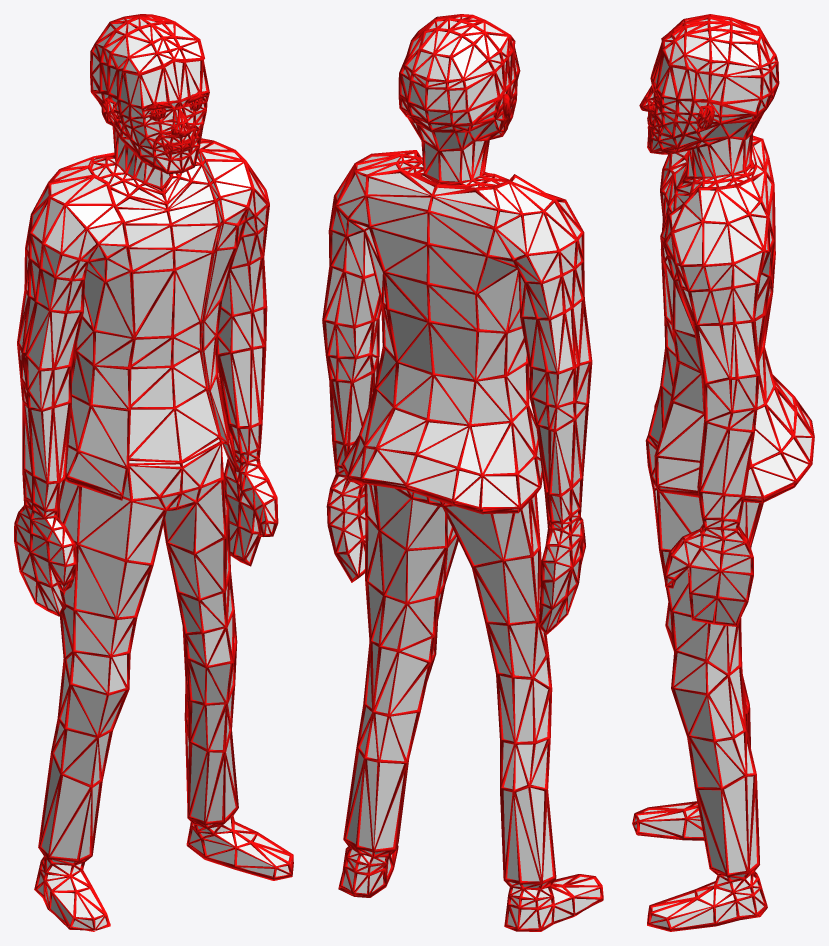
Rendered from elegantIdle_000001.obj.
3 renders of one model, left to right at view 1: azimuth 30°, elevation 25°; view 2: azimuth 150°, elevation 25°; view 3: azimuth 270°, elevation 25°, orthographic. The views are drawn at different scales.
Visible parts, largest first — view 1: BaseHuman_Cylinder.002; view 2: BaseHuman_Cylinder.002; view 3: BaseHuman_Cylinder.002.
Part boxes in pixels (x1=…): BaseHuman_Cylinder.002: x1=14, y1=14, x2=293, y2=931; BaseHuman_Cylinder.002: x1=322, y1=14, x2=603, y2=931; BaseHuman_Cylinder.002: x1=632, y1=14, x2=814, y2=931.
Bounding box in the file's own units: 1.44 × 4.85 × 0.9418.
